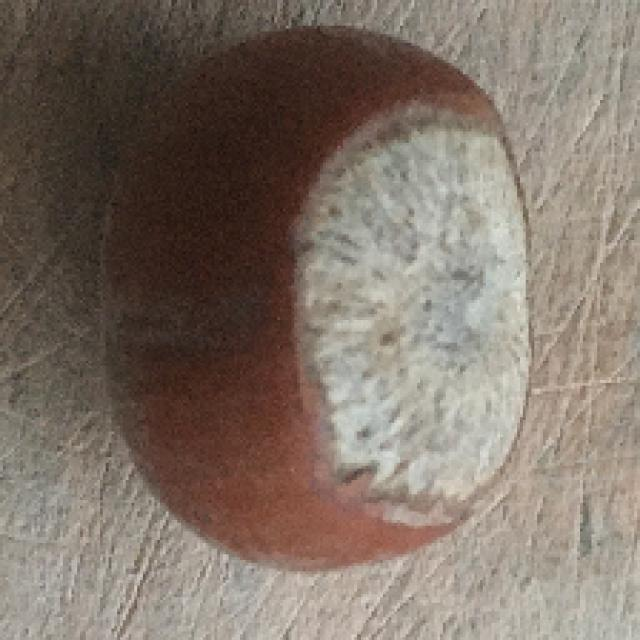qualityHazelnut: (98, 24, 537, 574)
